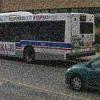buses: (0, 12, 96, 64)
